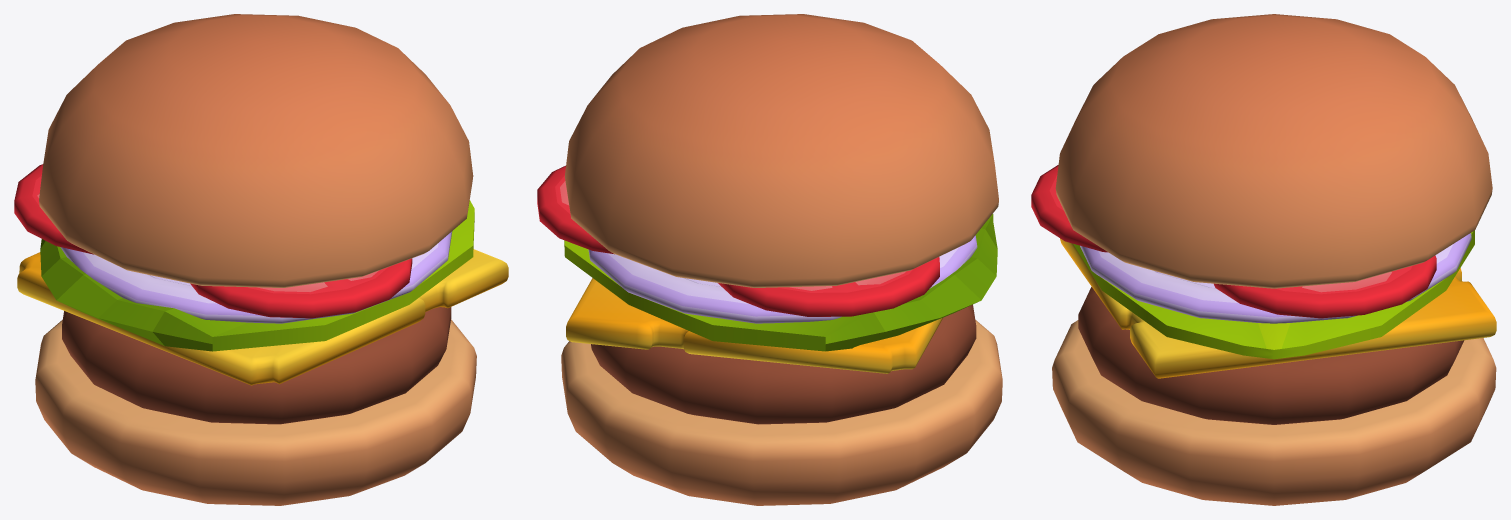
File: Hamburger_V1_00.fbx
3 renders of one model, left to right at view 1: azimuth 30°, elevation 25°; view 2: azimuth 150°, elevation 25°; view 3: azimuth 270°, elevation 25°, orthographic.
Visible parts, largest first — view 1: Hamburger_V1_00; view 2: Hamburger_V1_00; view 3: Hamburger_V1_00.
Part boxes in pixels (x1,y1,x2,y2): Hamburger_V1_00: (14,14,508,505); Hamburger_V1_00: (537,14,1002,505); Hamburger_V1_00: (1031,14,1496,505).
Size of the model in its own units: 49.39 by 46.51 by 48.53.
